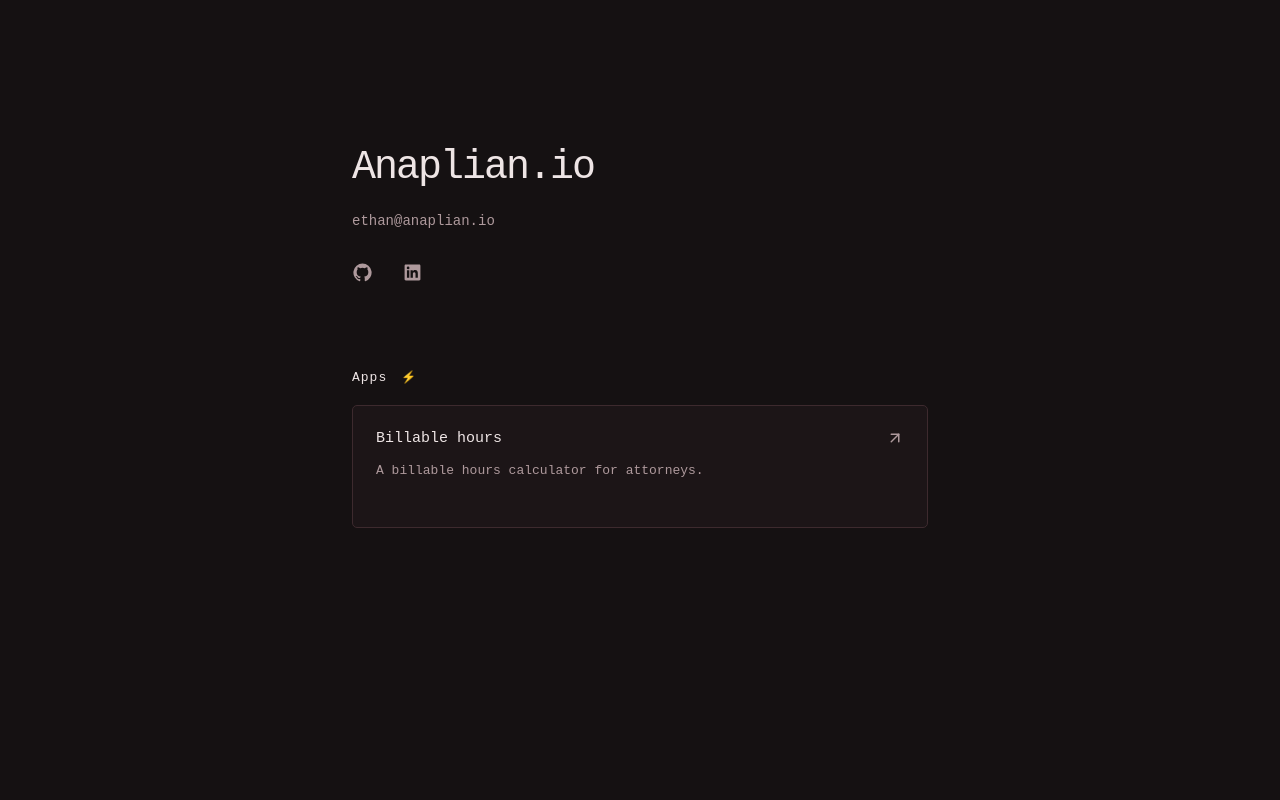
Test: personal website › opens the app app and returns home
Click the link "Billable hours A billable hours calculator for attorneys.".
click(640, 467)  # box [352, 405, 928, 528]
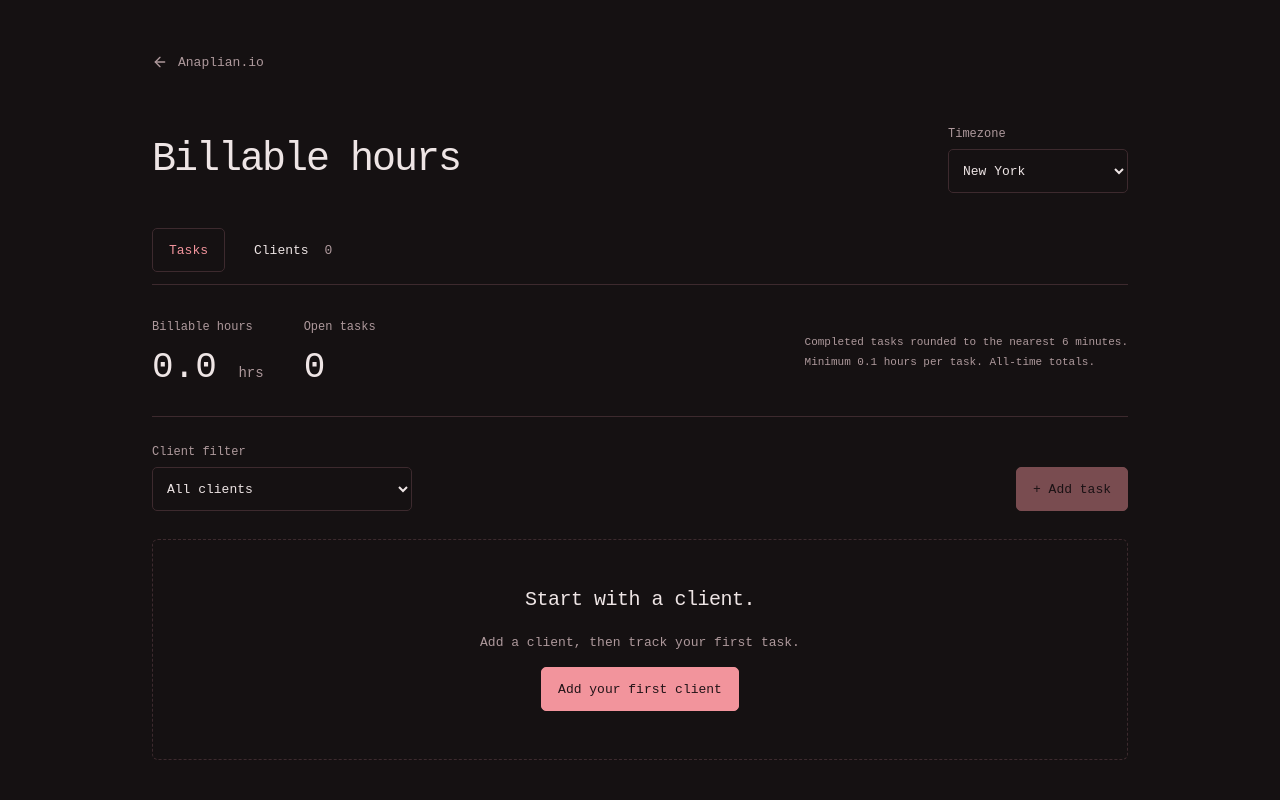
Expected: the heading "Billable hours" is shown, [152, 136, 460, 184]
Expected: the button "Add your first client" is shown, [541, 667, 739, 711]
Click the link "Anaplian.io".
click(208, 62)  # box [152, 54, 264, 70]
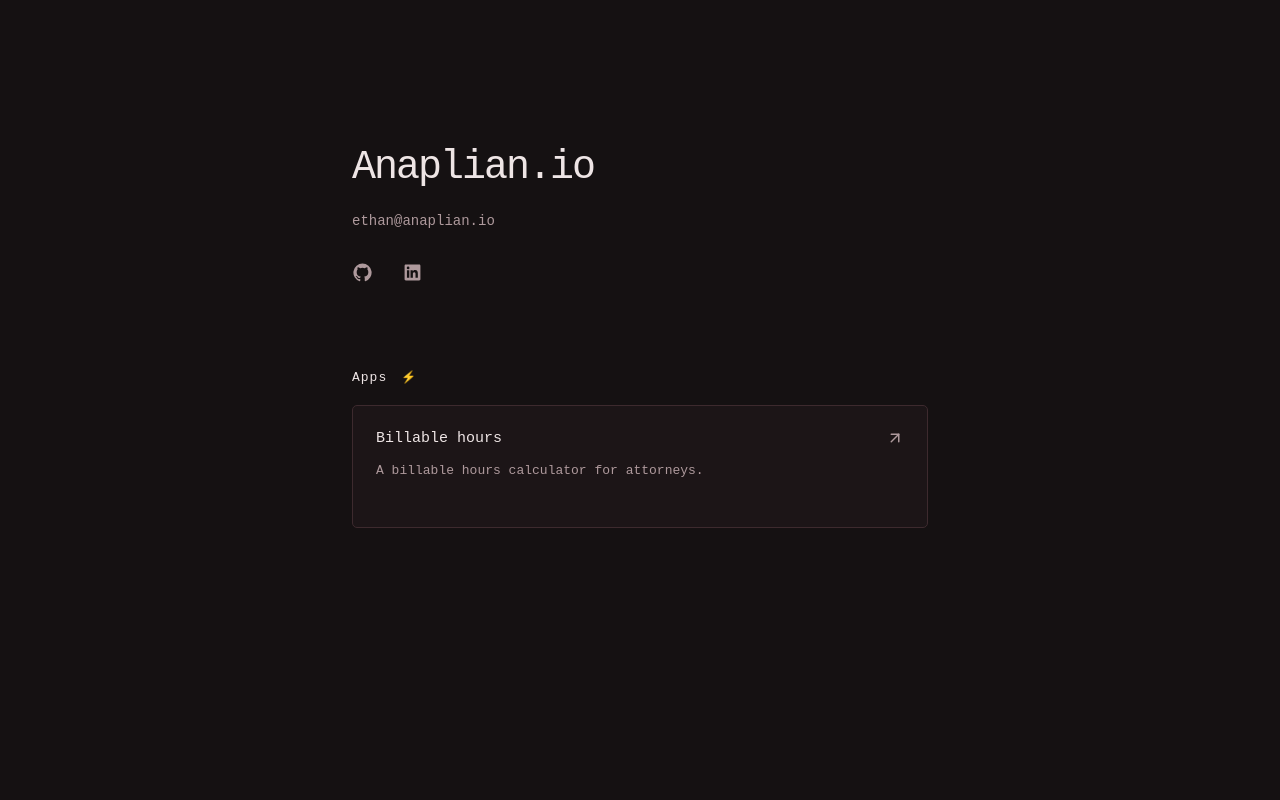
Expected: the heading "Apps ⚡️" is shown, [352, 370, 417, 385]
